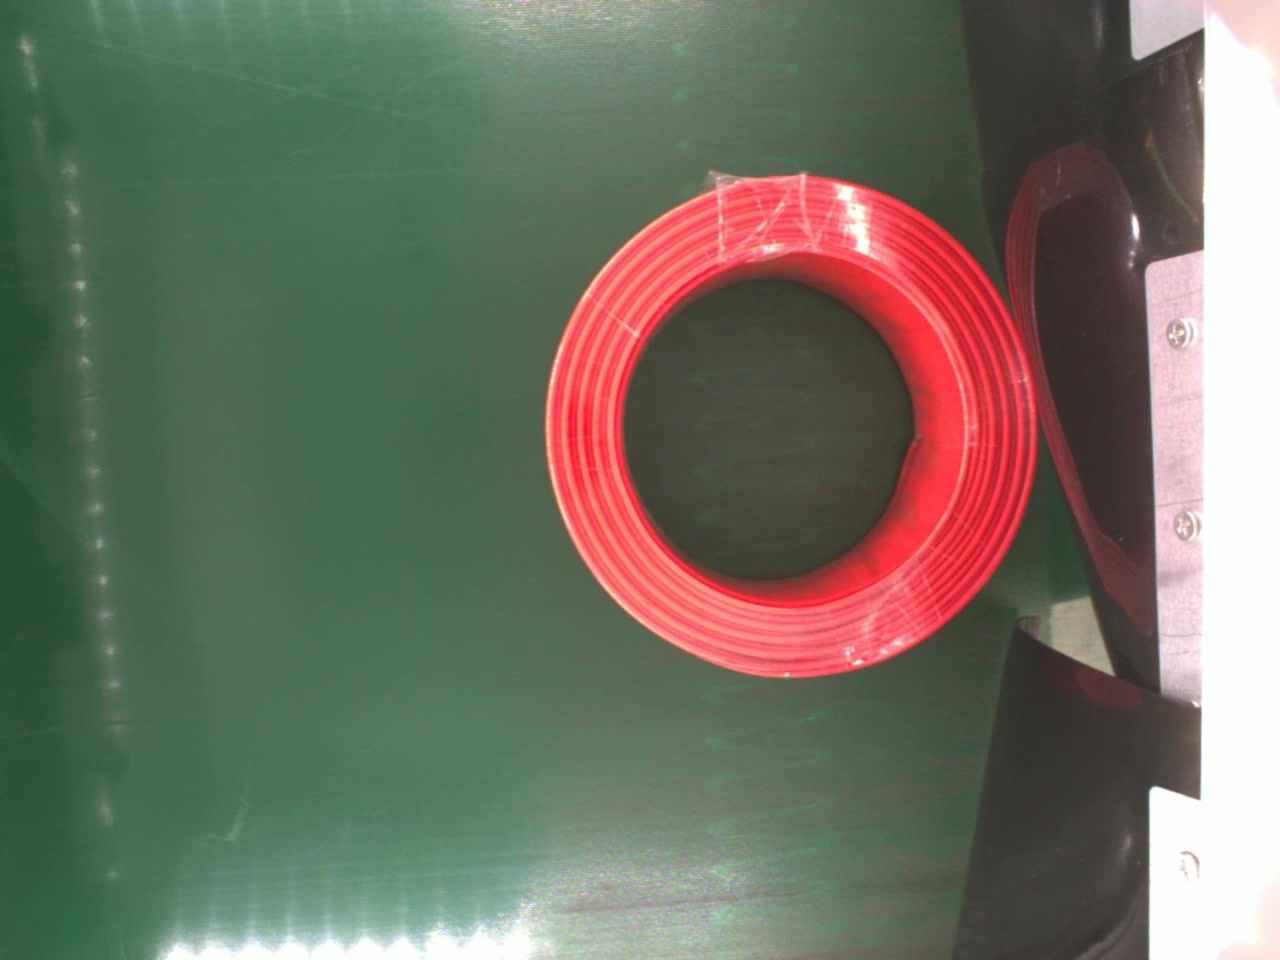red: (545, 172, 1040, 684)
